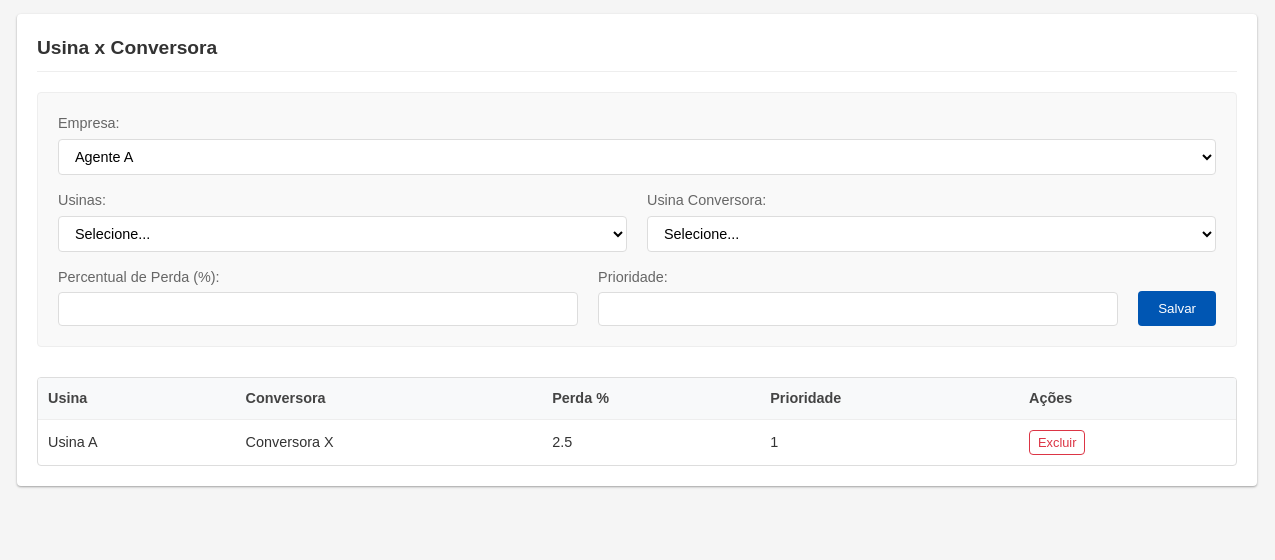
it: PlantConverterPage › should delete association
Expected: the text "Usina A" is shown, [38,419,236,465]
Click Delete
Click the button "Excluir".
click(1057, 442)  # box [1029,430,1086,455]
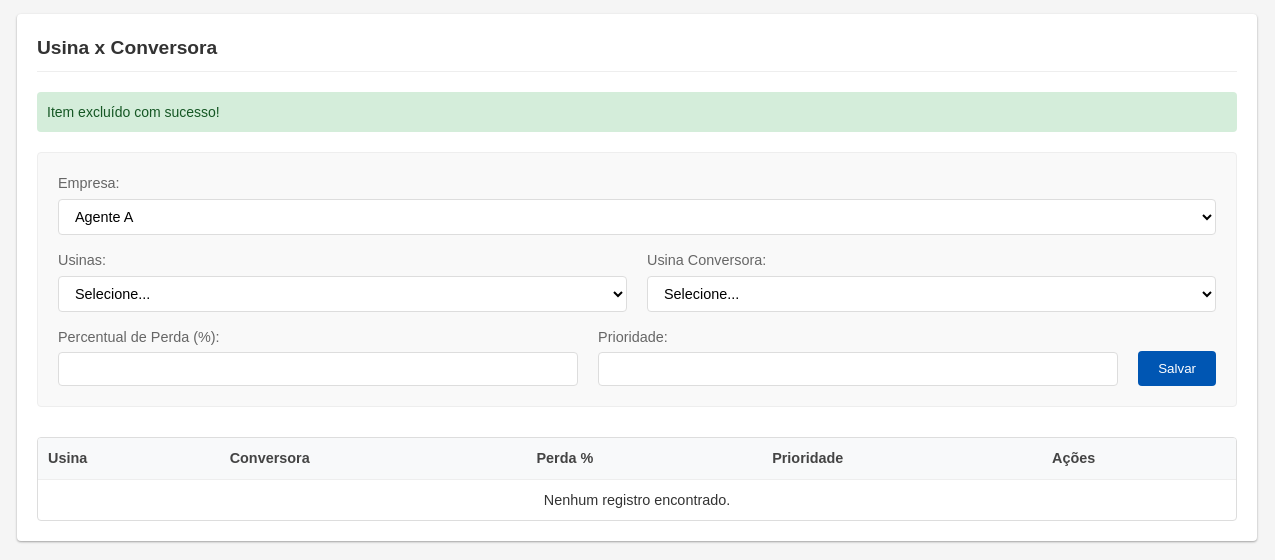
Expected: the text "Item excluído com sucesso!" is shown, [37,92,1237,132]
Expected: the text "Usina A" is gone
